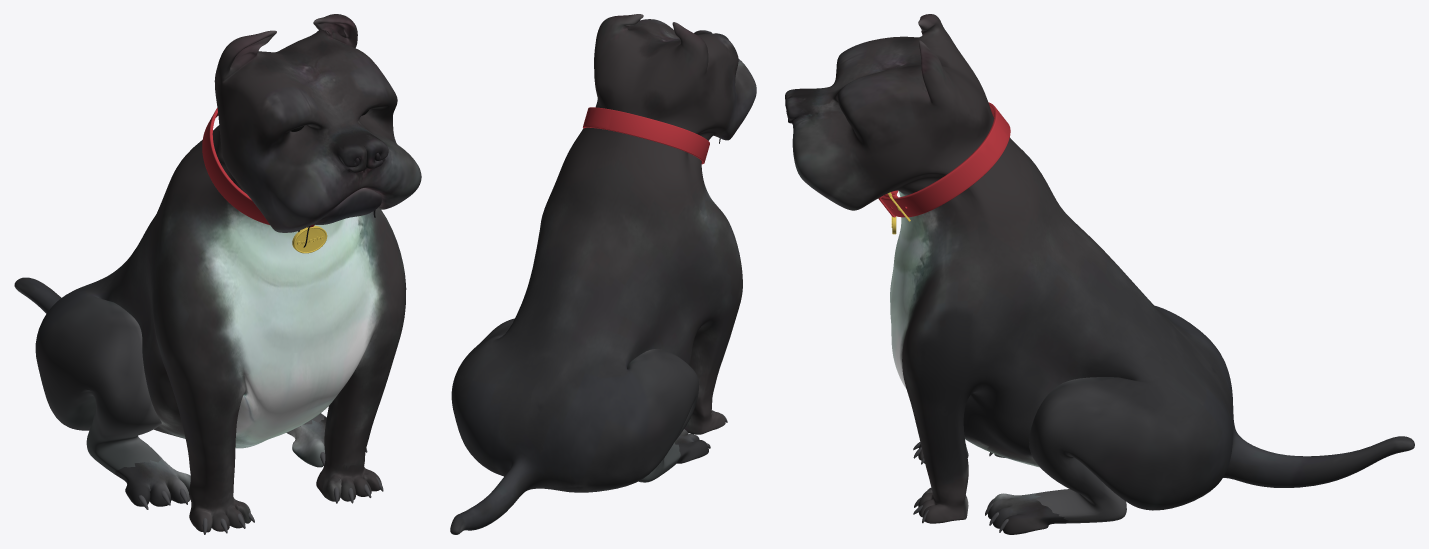
File: Perro.obj
The picture shows the model from 3 angles, left to right: view 1: azimuth 30°, elevation 25°; view 2: azimuth 150°, elevation 25°; view 3: azimuth 270°, elevation 25°; orthographic projection. The views are drawn at different scales.
Visible parts, largest first — view 1: Perro; view 2: Perro; view 3: Perro.
Part boxes in pixels (box(x1,y1,x2,y2)): Perro: box(14, 14, 421, 534); Perro: box(450, 14, 756, 534); Perro: box(785, 14, 1414, 534).
Bounding box in the file's own units: 0.3575 × 0.6434 × 0.8091.
Materials: 7 (7 with a texture image).
